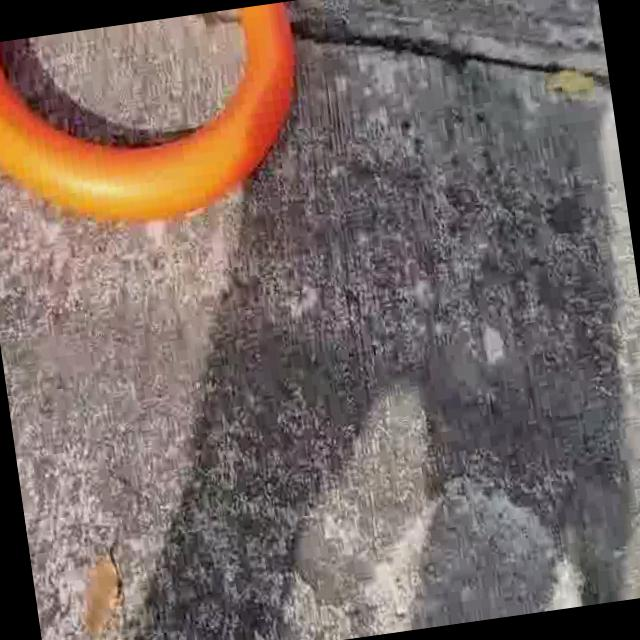note: (0, 0, 327, 240)
